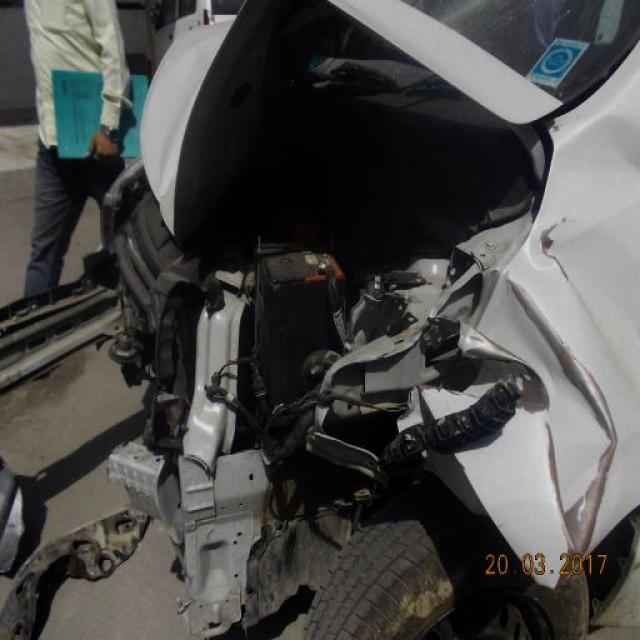car damage: (77, 95, 629, 634), (423, 4, 541, 39)
